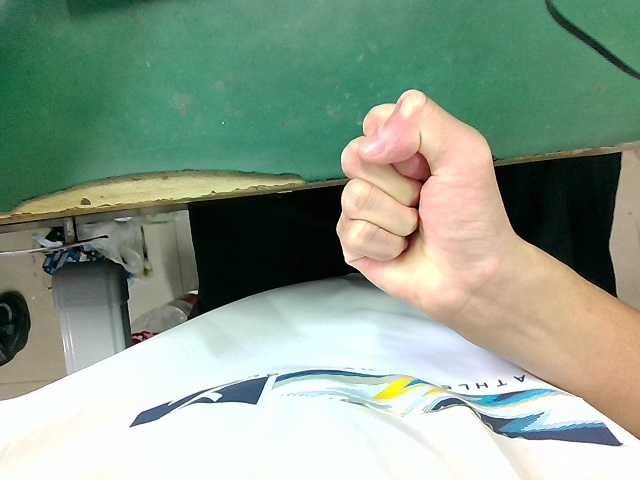stone: (333, 85, 527, 348)
